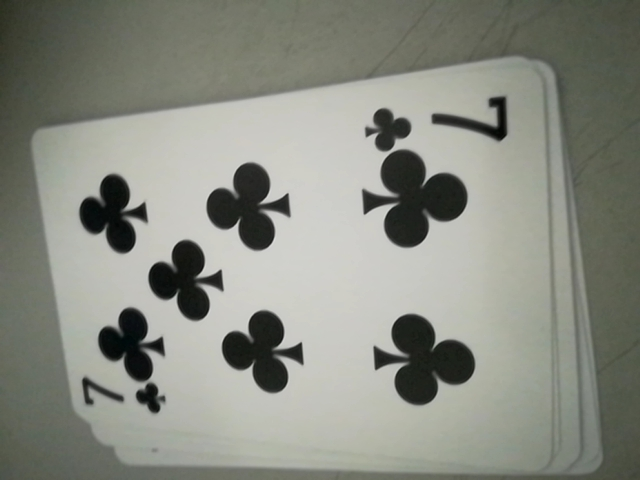mh 7: (361, 87, 515, 152), (73, 372, 164, 424)
